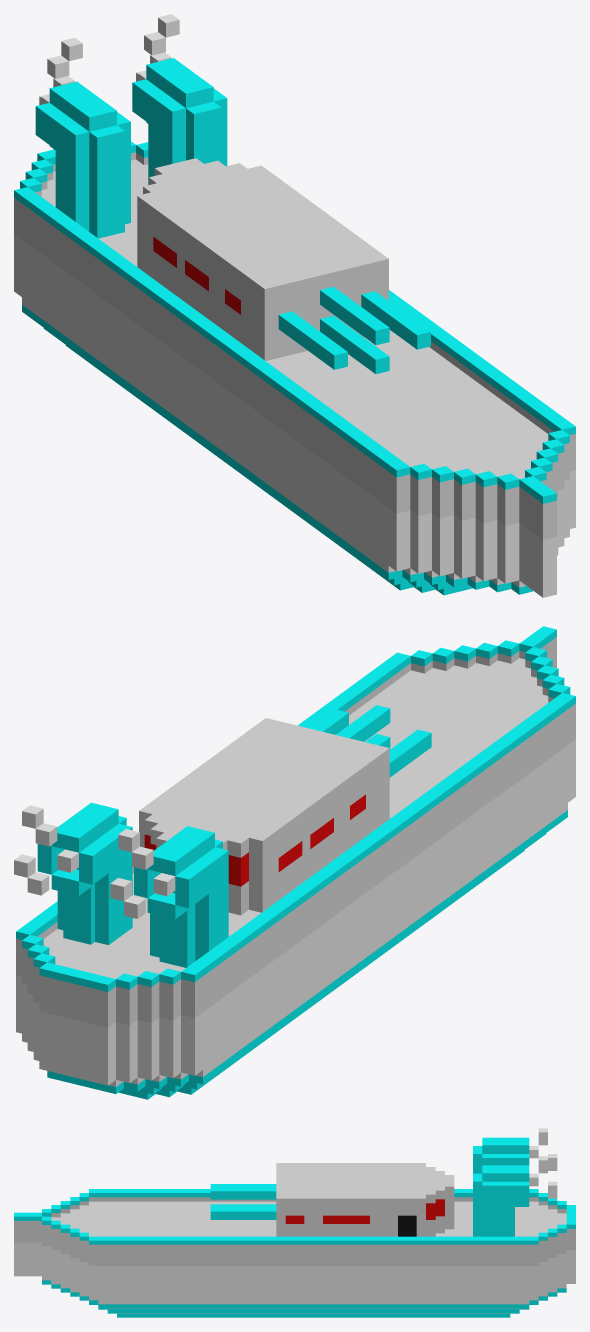
File: Boat_03.obj
The picture shows the model from 3 angles, top to bottom: view 1: azimuth 30°, elevation 25°; view 2: azimuth 150°, elevation 25°; view 3: azimuth 270°, elevation 25°; orthographic projection. The views are drawn at different scales.
Bounding box in the file's own units: 2.6 × 3.8 × 12.
1 material, 1 textured.
